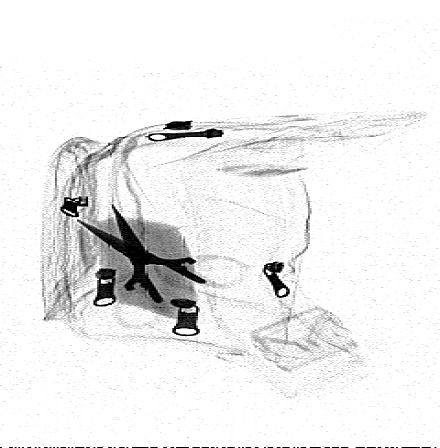Scissors: (67, 197, 258, 332)
